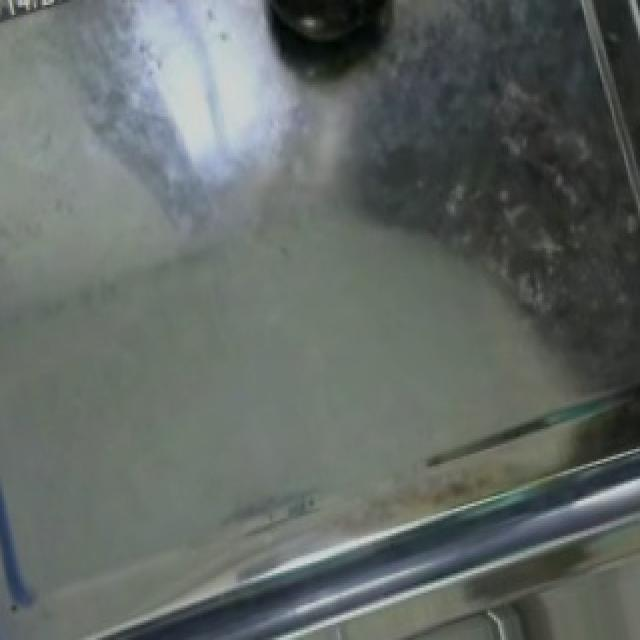Fruit: (256, 0, 402, 60)
